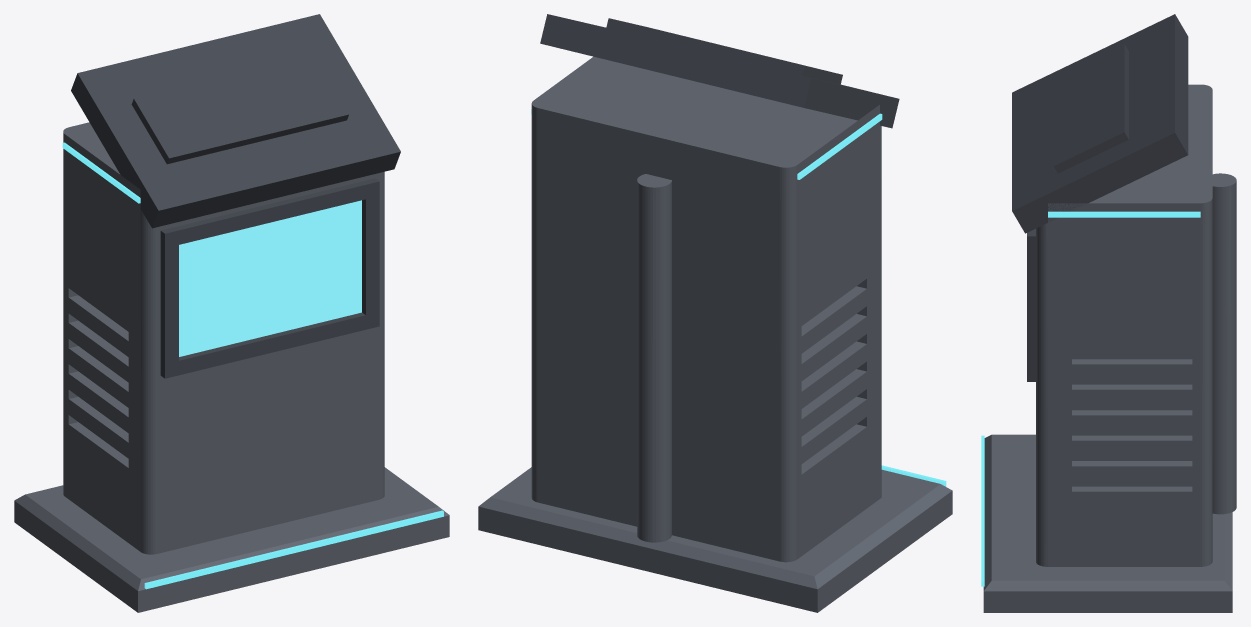
File: terminal.glb
3 renders of one model, left to right at view 1: azimuth 30°, elevation 25°; view 2: azimuth 150°, elevation 25°; view 3: azimuth 270°, elevation 25°, orthographic. The views are drawn at different scales.
Visible parts, largest first — view 1: TerminalBody, TerminalConsole, TerminalPlinth, TerminalScreen, TerminalKeypad, TerminalBezel, TerminalTrimBase, TerminalTrimSideL; view 2: TerminalBody, TerminalPlinth, TerminalConduit, TerminalConsole, TerminalKeypad, TerminalTrimSideL; view 3: TerminalBody, TerminalPlinth, TerminalConsole, TerminalConduit, TerminalKeypad, TerminalBezel, TerminalTrimSideR, TerminalTrimBase.
Boxes of the visible parts, left/top/right/bottom form: TerminalBody: left=63, top=122, right=384, bottom=554; TerminalConsole: left=71, top=14, right=400, bottom=228; TerminalPlinth: left=14, top=467, right=449, bottom=612; TerminalScreen: left=179, top=200, right=361, bottom=356; TerminalKeypad: left=131, top=54, right=348, bottom=164; TerminalBezel: left=160, top=178, right=379, bottom=378; TerminalTrimBase: left=144, top=510, right=443, bottom=589; TerminalTrimSideL: left=62, top=142, right=140, bottom=203; TerminalBody: left=531, top=56, right=881, bottom=562; TerminalPlinth: left=478, top=467, right=952, bottom=612; TerminalConduit: left=637, top=174, right=671, bottom=542; TerminalConsole: left=540, top=14, right=899, bottom=128; TerminalKeypad: left=606, top=18, right=842, bottom=84; TerminalTrimSideL: left=797, top=113, right=882, bottom=179; TerminalBody: left=1036, top=84, right=1212, bottom=566; TerminalPlinth: left=983, top=434, right=1232, bottom=612; TerminalConsole: left=1012, top=14, right=1188, bottom=233; TerminalConduit: left=1212, top=173, right=1236, bottom=514; TerminalKeypad: left=1053, top=44, right=1128, bottom=173; TerminalBezel: left=1027, top=228, right=1035, bottom=381; TerminalTrimSideR: left=1048, top=211, right=1200, bottom=217; TerminalTrimBase: left=981, top=435, right=984, bottom=586.
Bounding box in the file's own units: 0.9 × 1.27 × 0.636.
